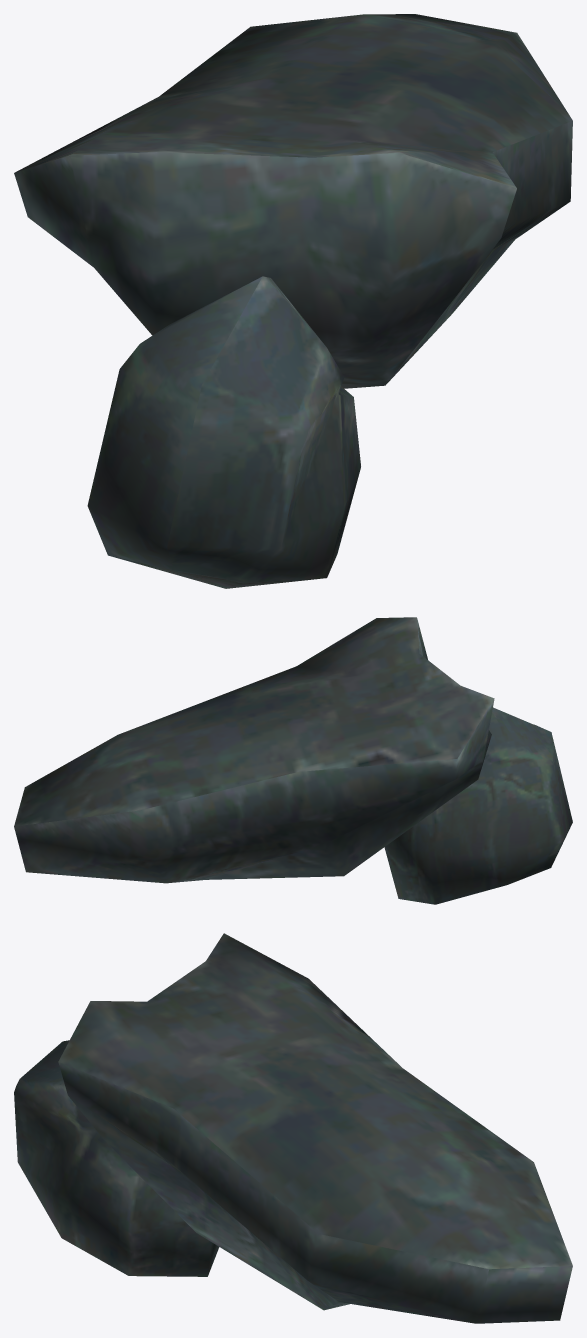
File: environment_stone_dashitou_001.FBX
3 renders of one model, top to bottom at view 1: azimuth 30°, elevation 25°; view 2: azimuth 150°, elevation 25°; view 3: azimuth 270°, elevation 25°, orthographic. The views are drawn at different scales.
Parts seen in each view (by area): view 1: environment_stone_dashitou_001; view 2: environment_stone_dashitou_001; view 3: environment_stone_dashitou_001.
Part boxes in pixels (bbox=[...]): environment_stone_dashitou_001: bbox=[14, 14, 572, 588]; environment_stone_dashitou_001: bbox=[14, 617, 572, 904]; environment_stone_dashitou_001: bbox=[14, 933, 572, 1323].
Size of the model in its own units: 69.88 by 41.27 by 70.52.
Materials: 1 (1 with a texture image).
